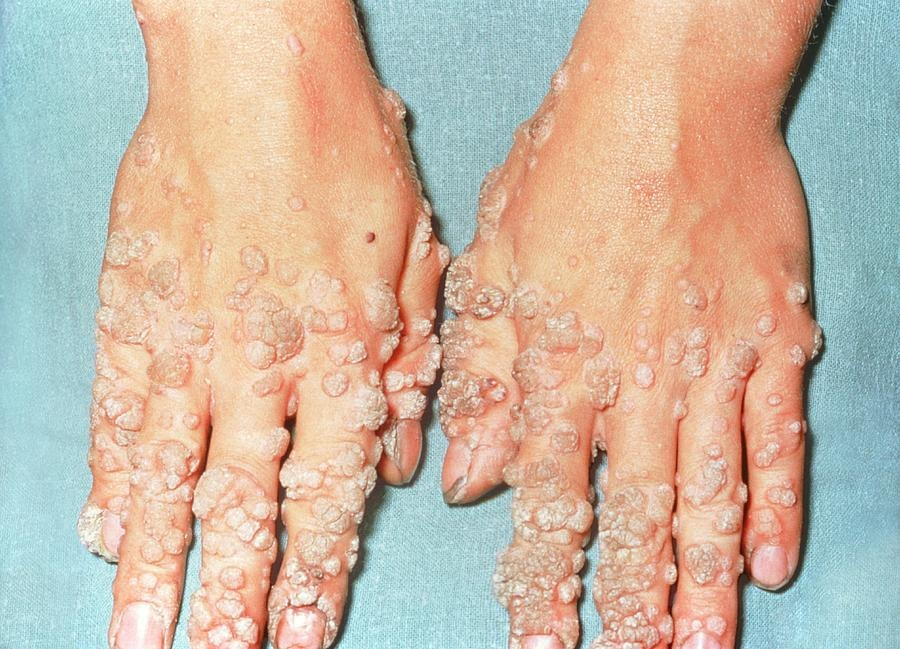Warts: (70, 48, 828, 649)
